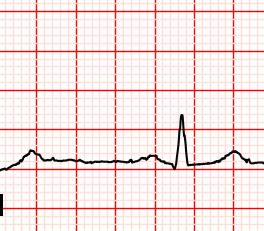LVH: (206, 148, 247, 168)
